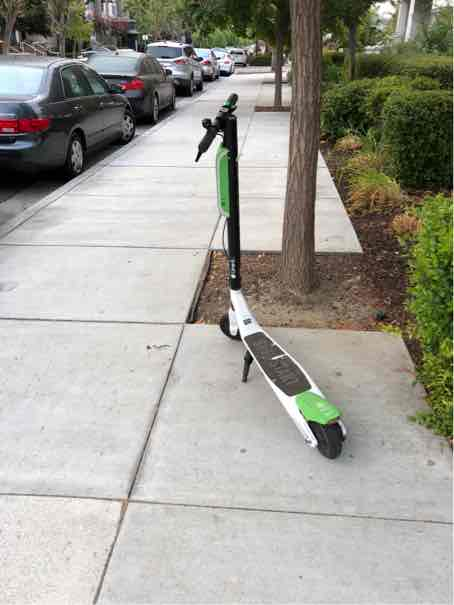scooter: (190, 80, 363, 478)
